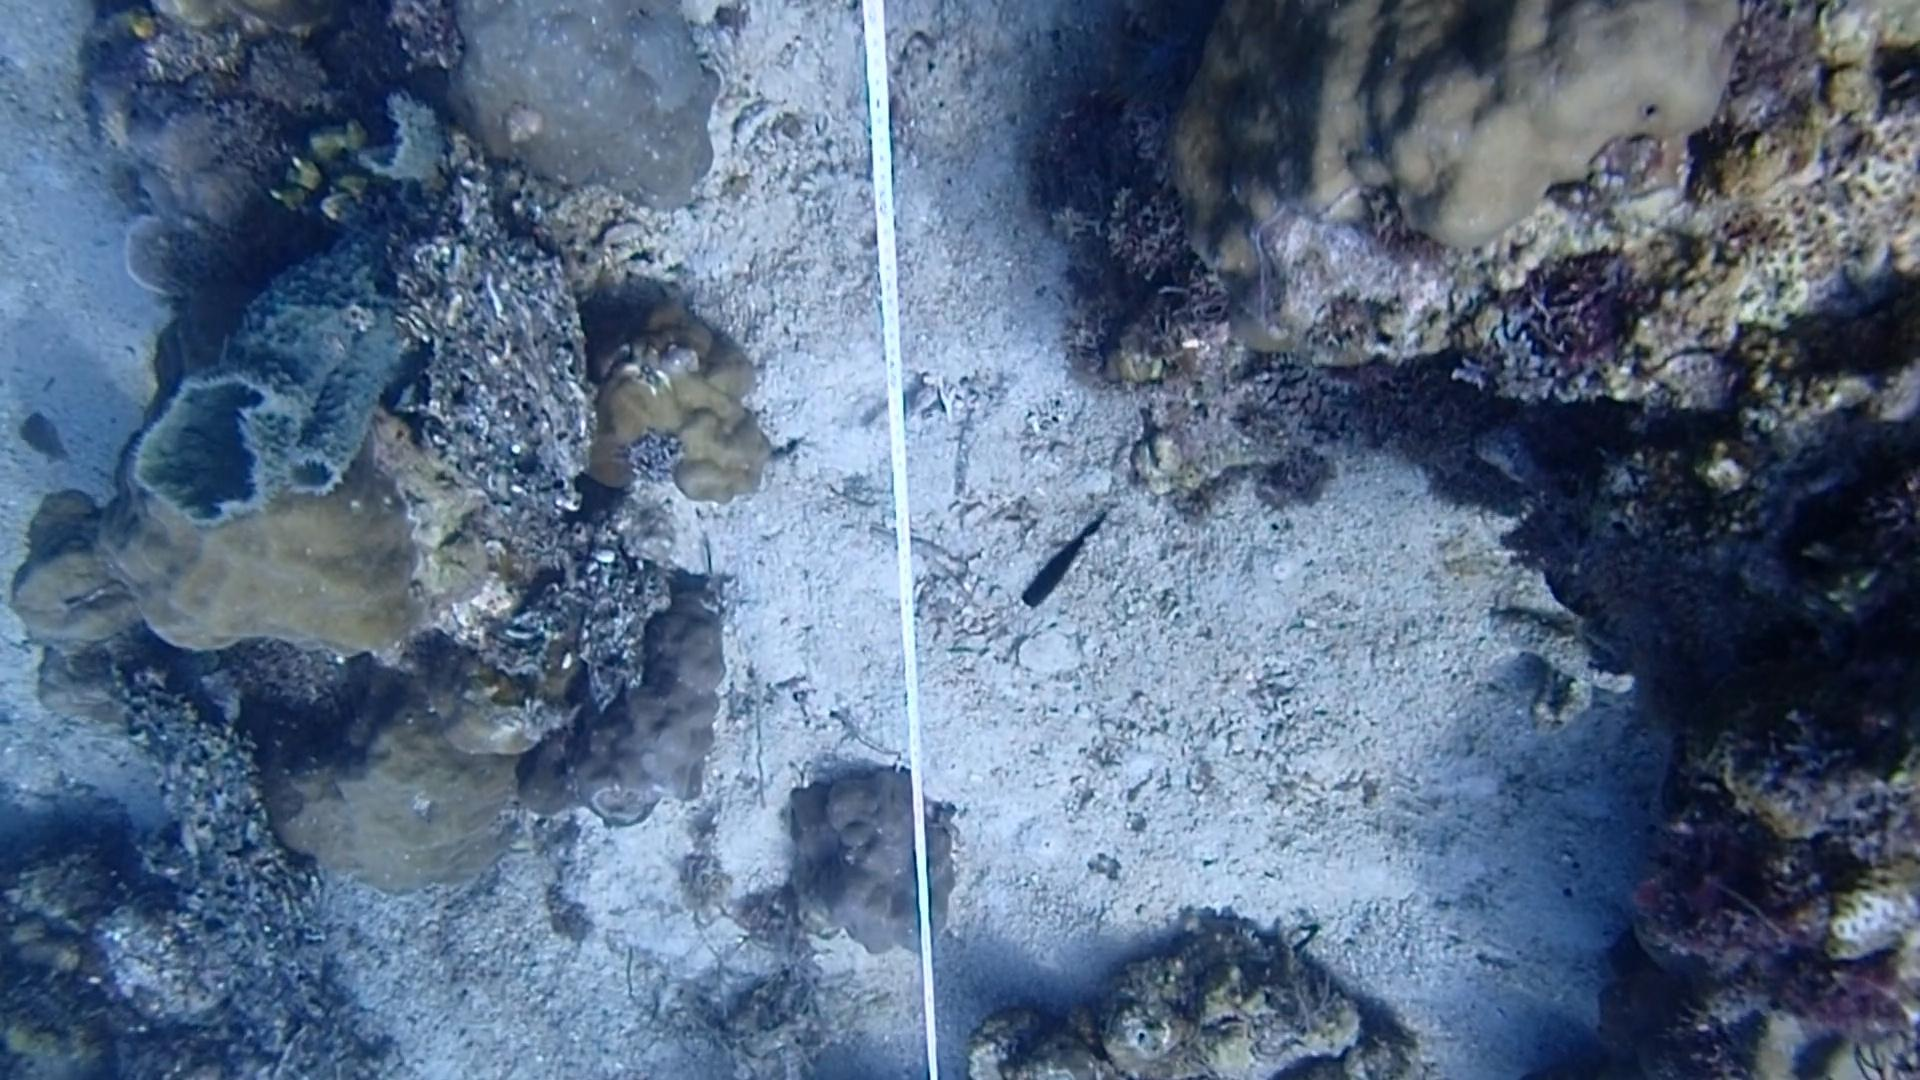Dark Fish: (1011, 514, 1131, 616)
